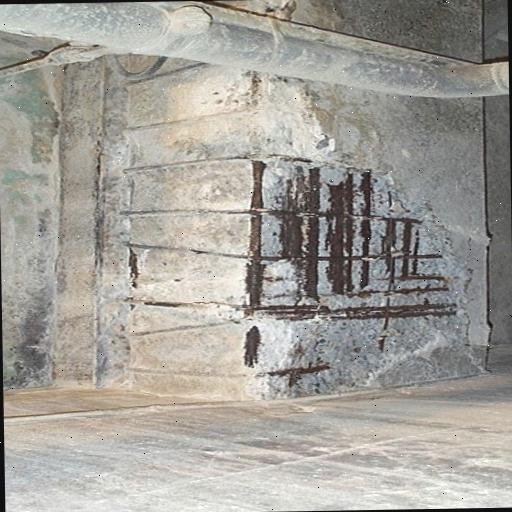spalling: (237, 156, 486, 402)
